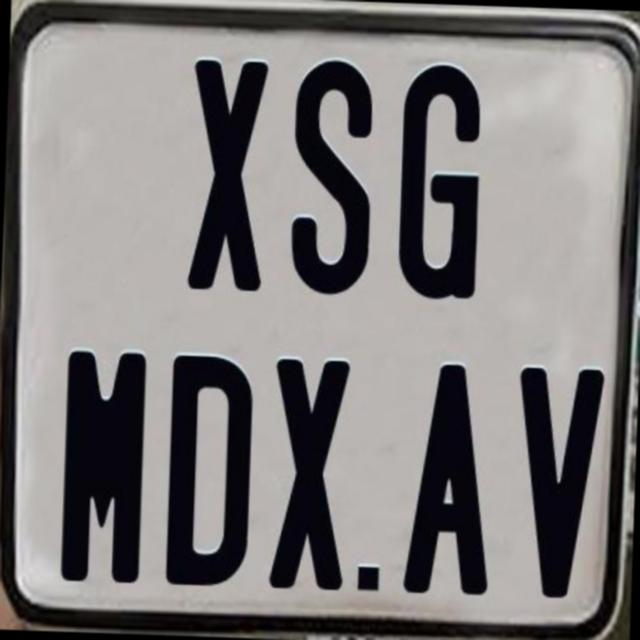A: (402, 362, 498, 594)
D: (164, 350, 260, 586)
G: (394, 62, 482, 304)
M: (59, 350, 150, 592)
S: (288, 58, 380, 306)
V: (512, 365, 604, 599)
X: (187, 57, 270, 291), (268, 358, 350, 591)
